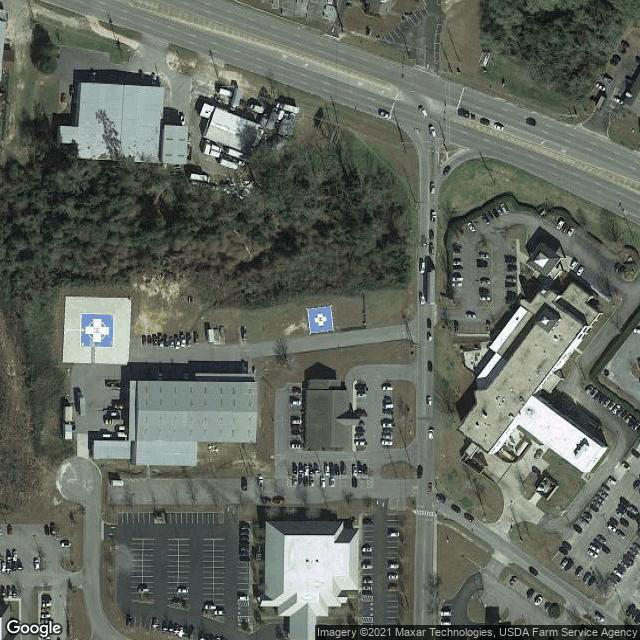Helipad: (79, 312, 116, 348), (304, 304, 338, 336)
